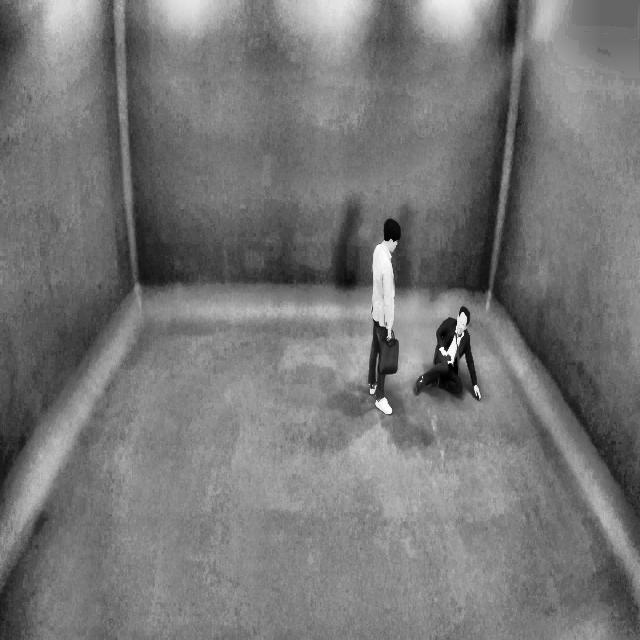assult: (364, 209, 498, 418), (412, 294, 482, 412)
